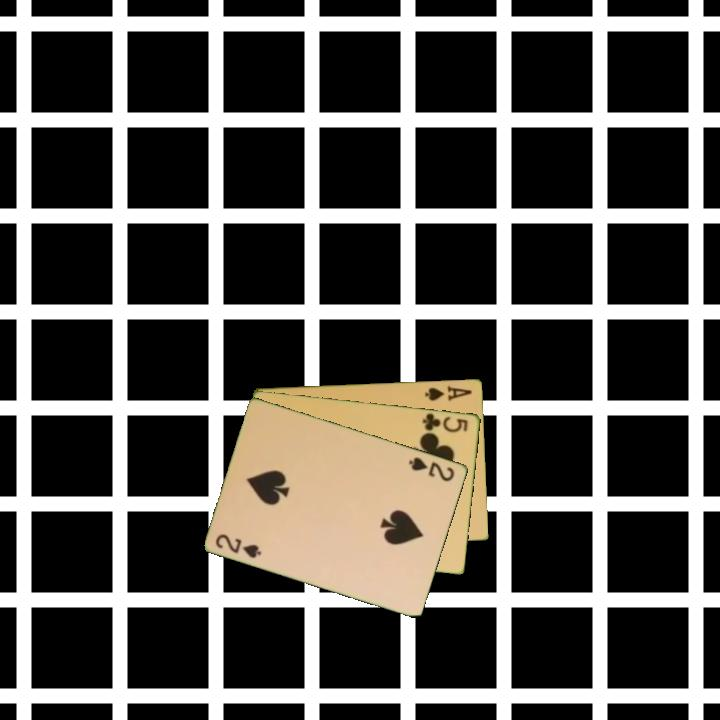2s: (405, 453, 458, 484), (212, 530, 265, 561)
5c: (419, 409, 471, 435)
As: (422, 382, 475, 404)
